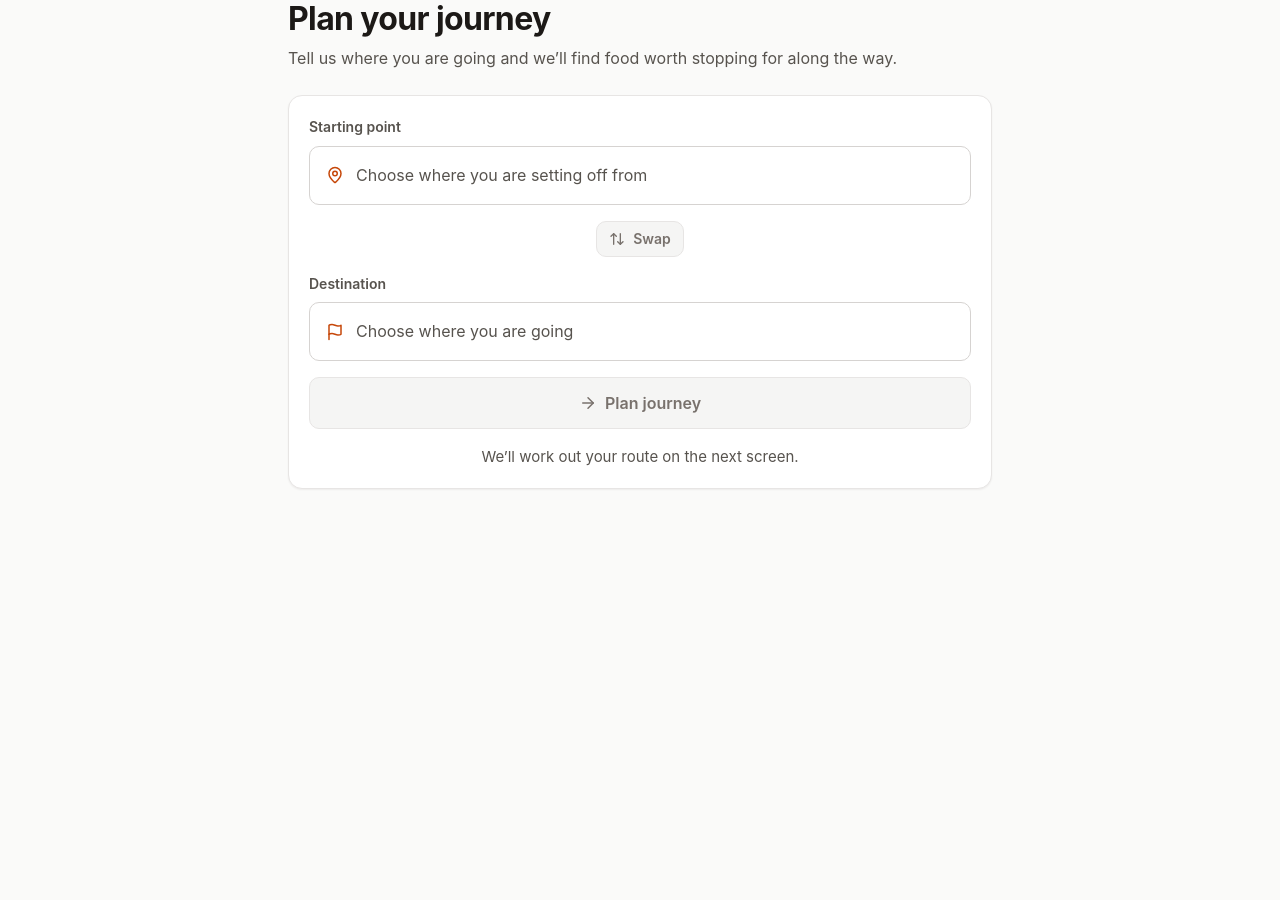
Test: TripPlannerScreen › will not render a message for a code it has never read
Click the button with aria-label "Starting point".
click(640, 175)  # box [309,146,971,205]
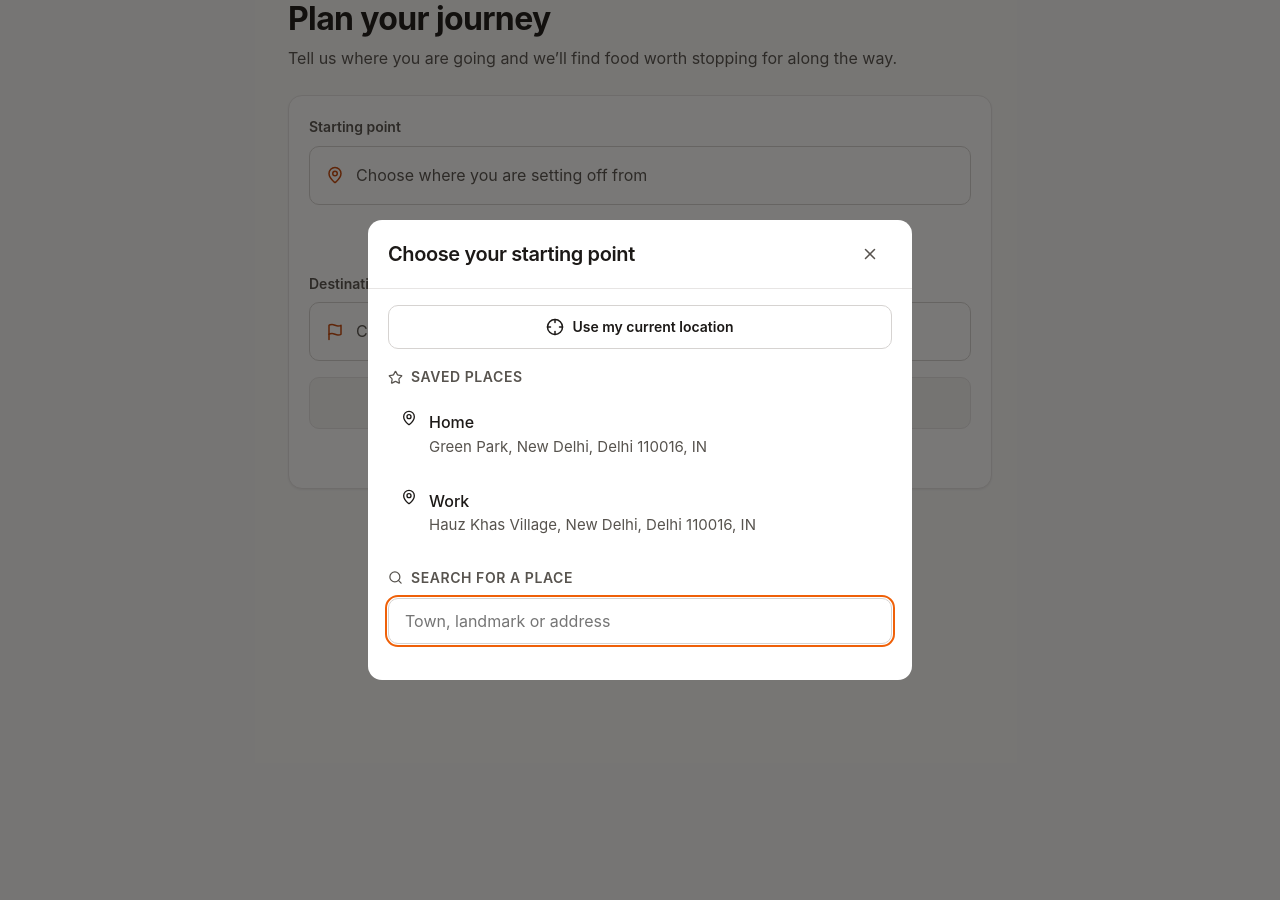
Click the button "Home Green Park, New Delhi, Delhi 110016, IN".
click(640, 434)  # box [388,398,892,472]
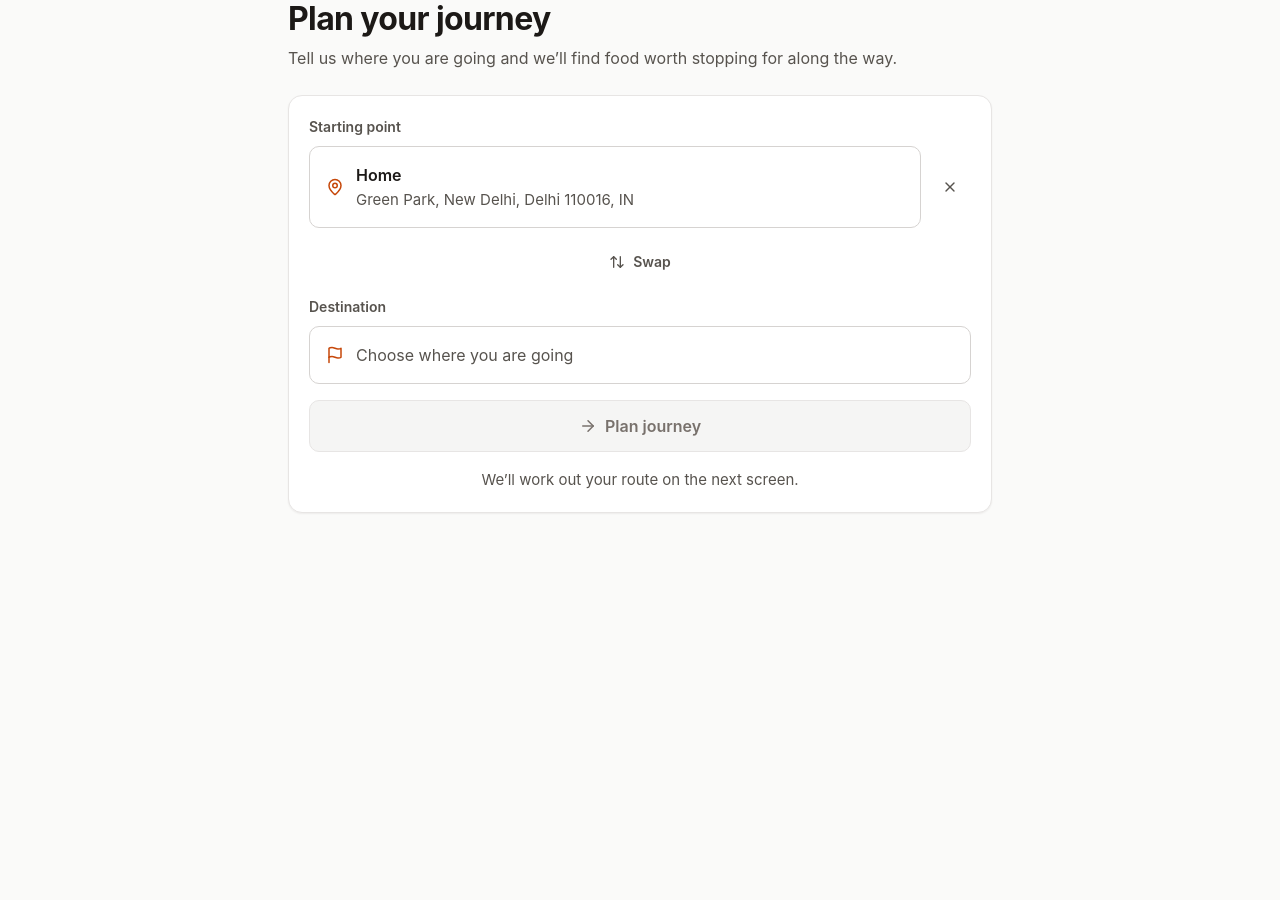
Click the button with aria-label "Destination".
click(465, 355)  # box [309,326,971,384]
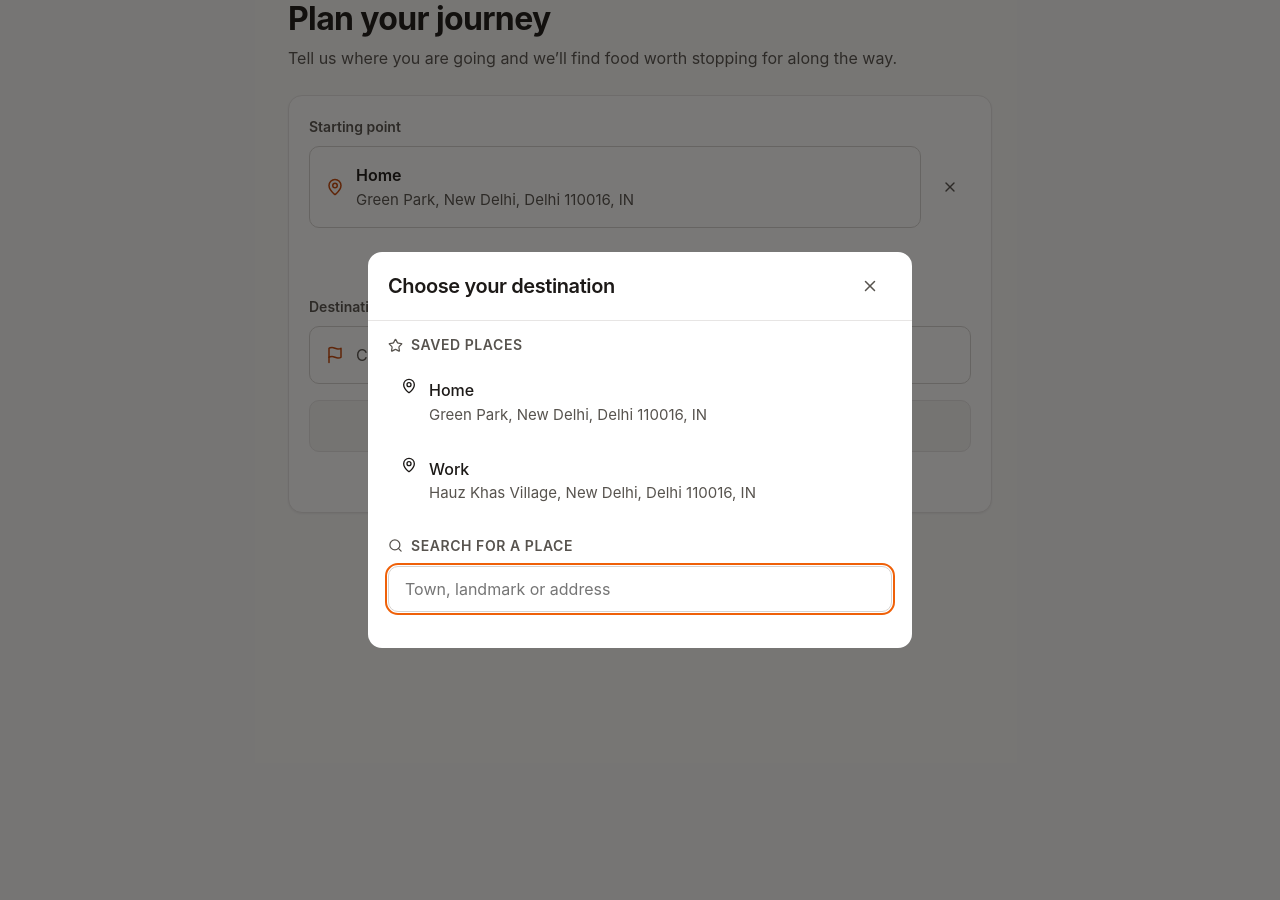
Click the button "Work Hauz Khas Village, New Delhi, Delhi 110016, IN".
click(640, 480)  # box [388,444,892,518]
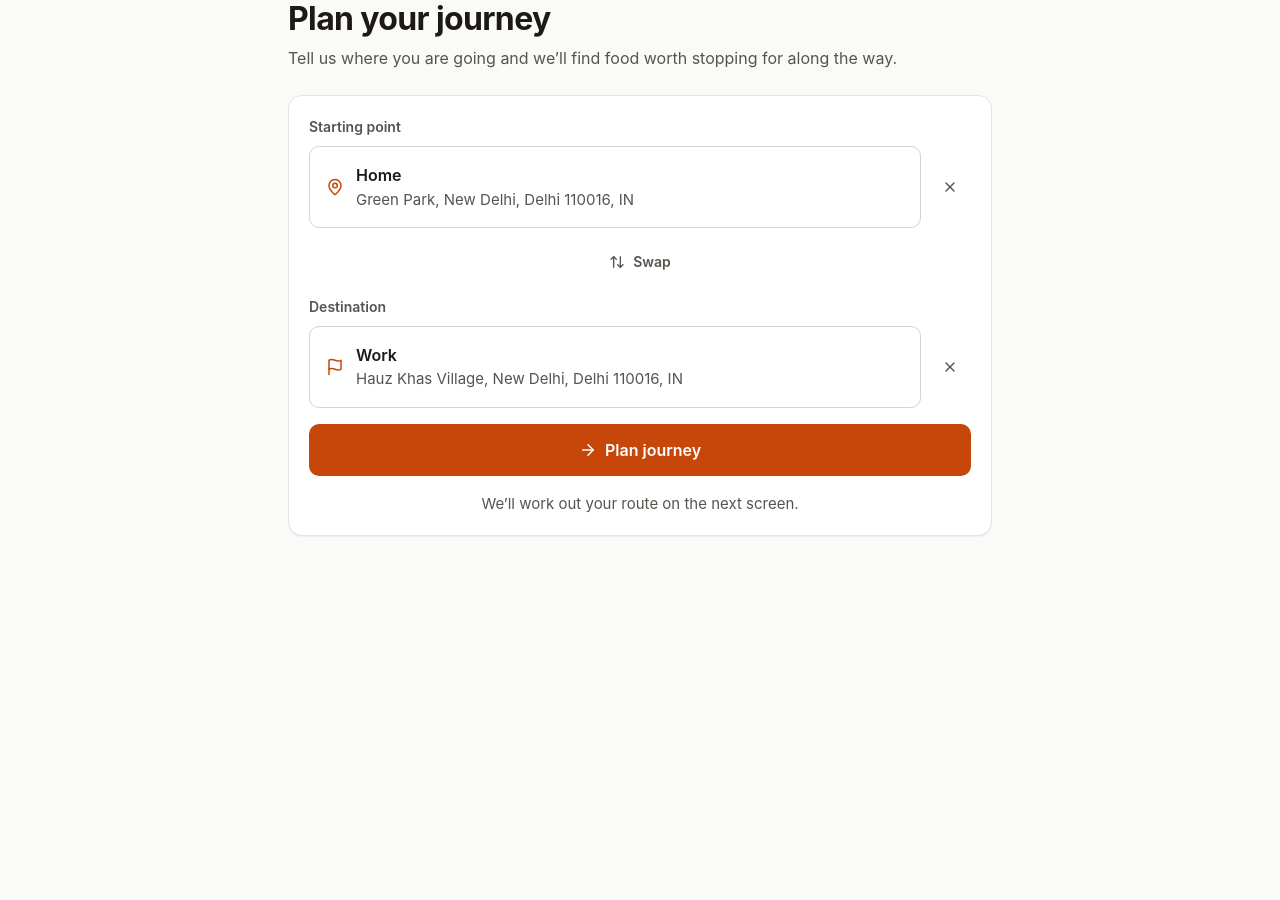
Click the button "Plan journey".
click(640, 450)  # box [309,424,971,476]
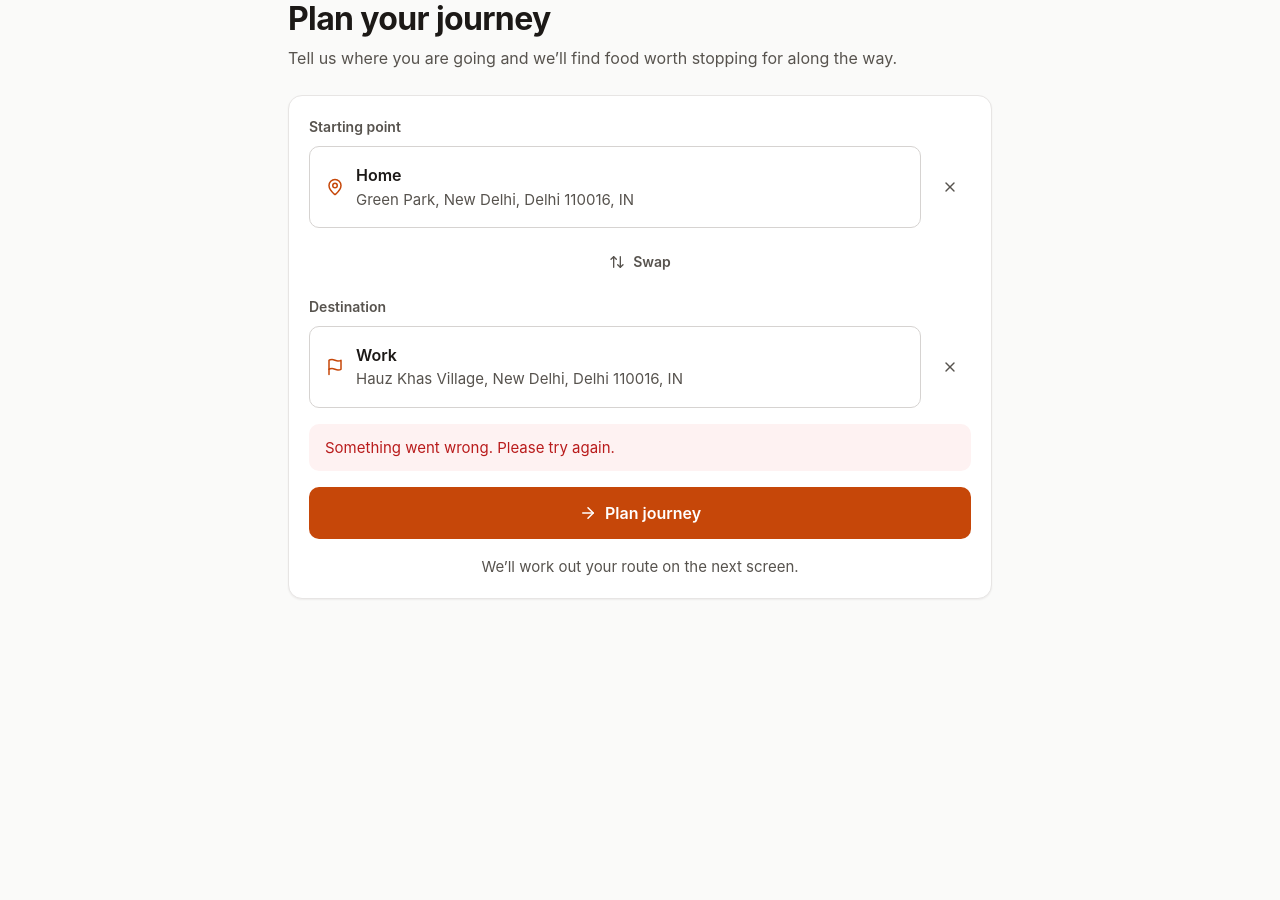
Expected: the message reads "Something went wrong. Please try again.", [325,438,615,457]
